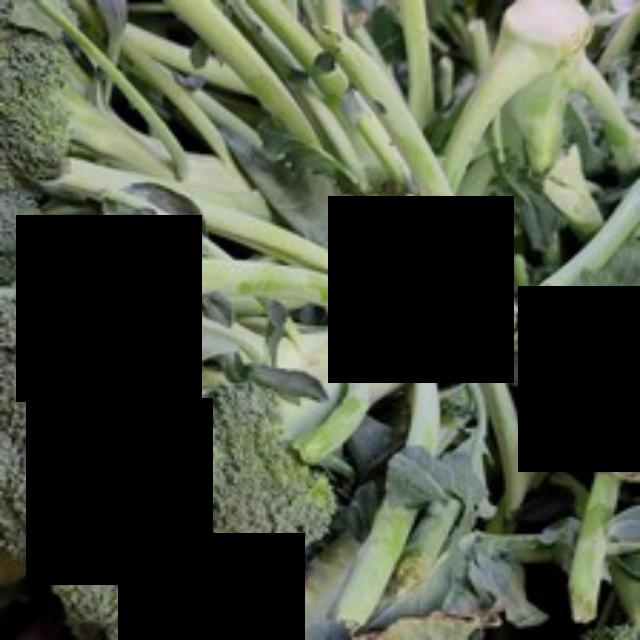broccoli: (0, 206, 337, 636)
